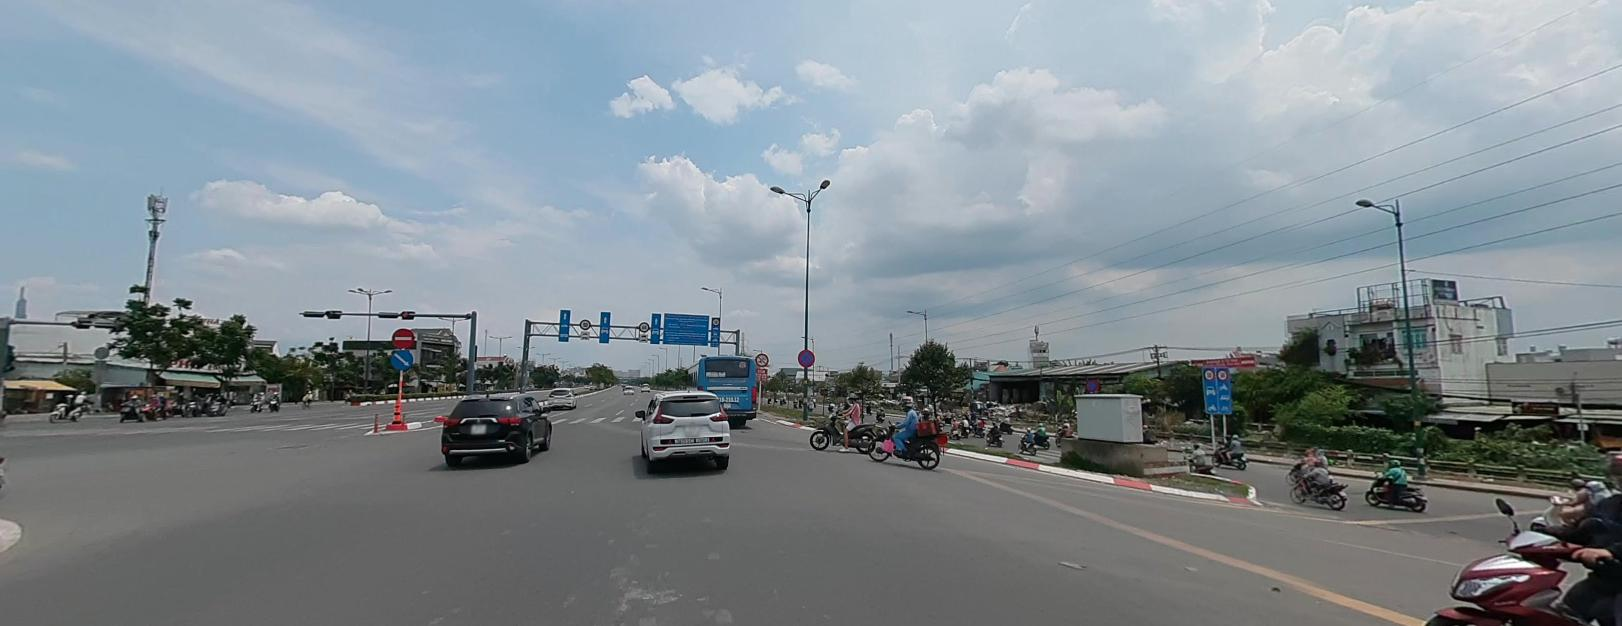Cam con lai: (755, 352, 769, 365)
Cam dung va do: (797, 348, 814, 366), (1086, 378, 1098, 390)
Cam nguoc chieu: (391, 327, 414, 347)
Gioi han toc do: (579, 317, 590, 327), (638, 320, 649, 330), (1216, 368, 1227, 379), (1204, 368, 1213, 378), (712, 317, 718, 324)
Hieu lenh: (389, 347, 413, 368)
